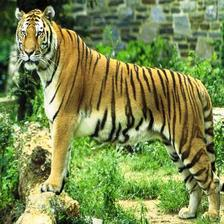tiger: (13, 8, 223, 224)
